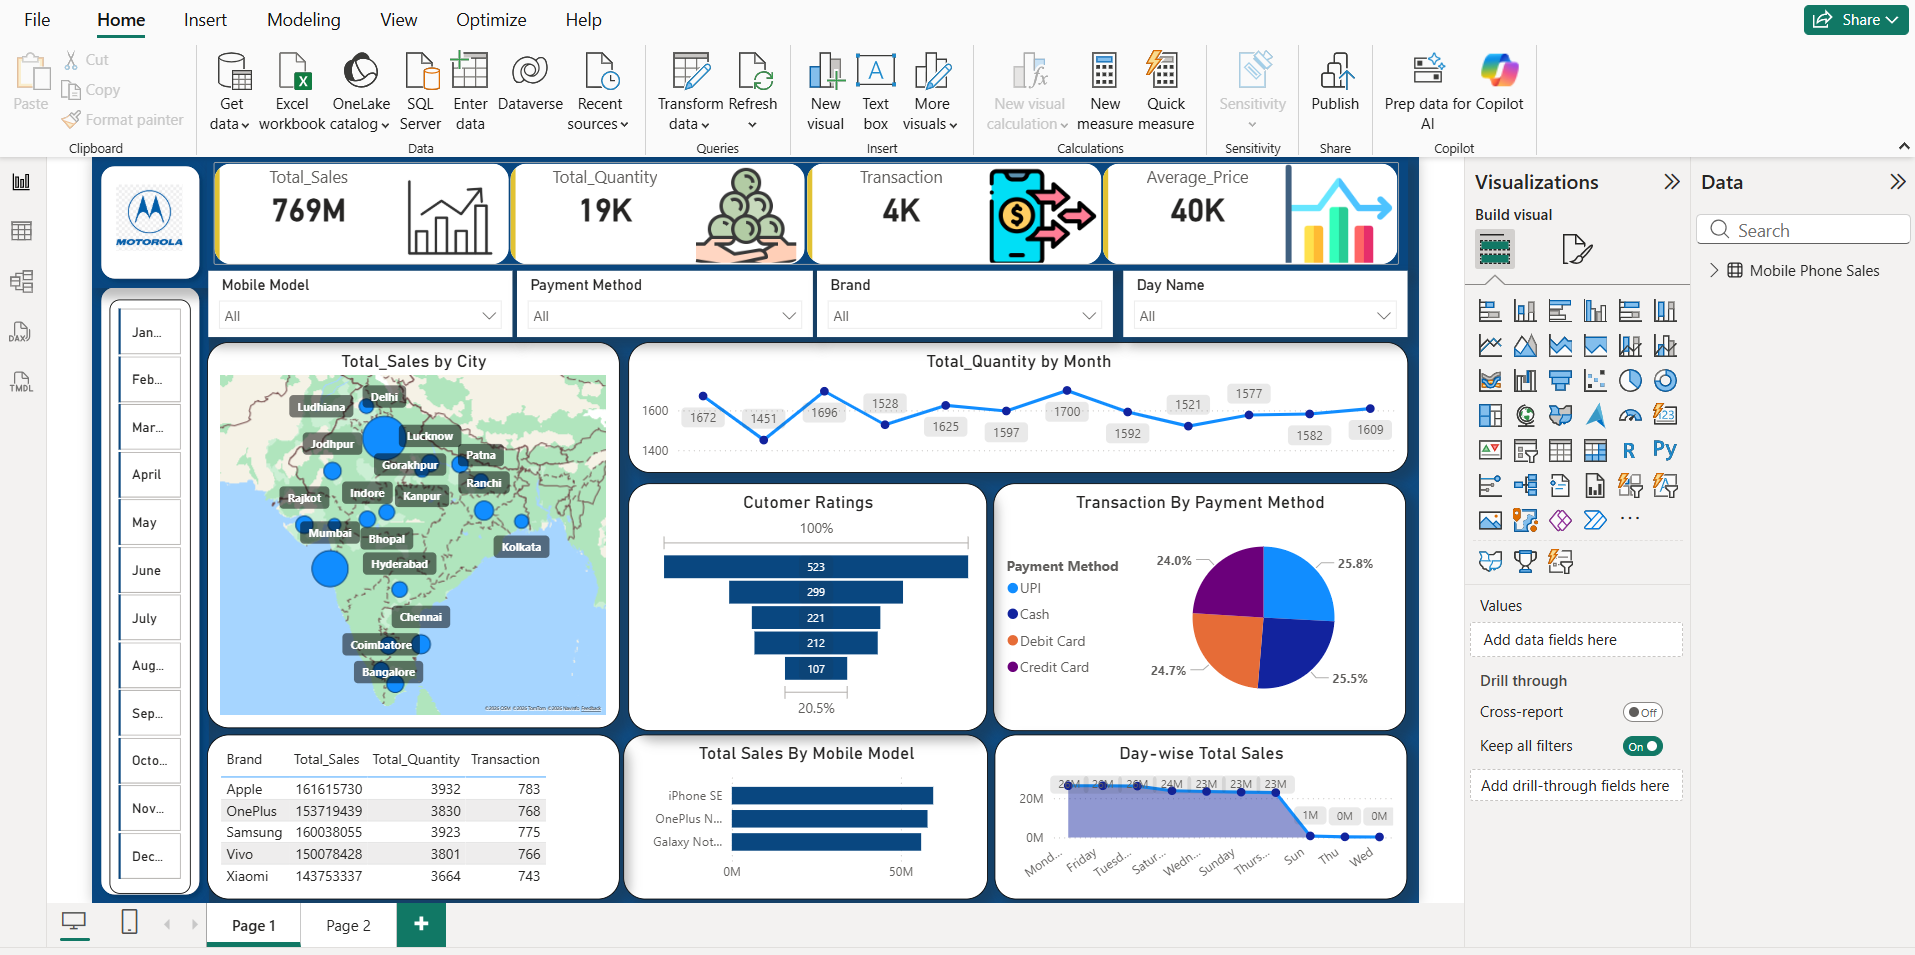

What the dashboard file says about the page in this screenshot:
{"tool":"powerbi","page":{"name":"Page 1","canvas":[1280,720],"ordinal":0},"visuals":[{"type":"shape","box":[0,116.6,112.5,603.8],"z":0},{"type":"shape","box":[0,0,112.5,126.2],"z":1000},{"type":"image","box":[16.5,22,76.8,74.1],"z":2000},{"type":"advancedSlicerVisual","fields":{"Values":["Sheet1.Date.Variation.Date Hierarchy.Month"]},"box":[16.5,137.2,78.2,573.6],"z":3000},{"type":"cardVisual","fields":{"Data":["Mobile Phone Sales.Total_Sales","Mobile Phone Sales.Total_Quantity","Mobile Phone Sales.ot_Transaction","Mobile Phone Sales.Avg_Price"]},"box":[111.3,0,1159,109.9],"z":4000},{"type":"azureMap","fields":{"Category":["Mobile Phone Sales.City"],"Size":["Mobile Phone Sales.Total_Sales"]},"box":[111,178.6,398.1,372.8],"z":5000},{"type":"lineChart","fields":{"Y":["Mobile Phone Sales.Total_Quantity"],"Category":["Mobile Phone Sales.Date.Variation.Date Hierarchy.Month","Mobile Phone Sales.Date.Variation.Date Hierarchy.Day"]},"box":[517.6,178.6,752.8,126.7],"z":6000},{"type":"barChart","title":"Total Sales By Mobile Model","fields":{"Category":["Mobile Phone Sales.Mobile Model"],"Y":["Mobile Phone Sales.Total_Sales"]},"box":[513,557.1,352.3,159.3],"z":7000},{"type":"pieChart","title":"Transaction By Payment Method","fields":{"Y":["Mobile Phone Sales.Transaction"],"Category":["Mobile Phone Sales.Payment Method"]},"box":[869.4,314.6,398.1,238.9],"z":8000},{"type":"funnel","title":"Cutomer Ratings","fields":{"Category":["Mobile Phone Sales.Customer Ratings"],"Y":["CountNonNull(Mobile Phone Sales.Customer Ratings)"]},"box":[517.1,314.6,346.2,238.9],"z":9000},{"type":"areaChart","title":"Total Sales By Mobile Model","fields":{"Y":["Mobile Phone Sales.Total_Sales"],"Category":["Mobile Phone Sales.Day Name"]},"box":[871.3,557.1,398.1,159.3],"z":10000},{"type":"tableEx","fields":{"Values":["Mobile Phone Sales.Brand","Mobile Phone Sales.Total_Sales","Mobile Phone Sales.Total_Quantity","Mobile Phone Sales.Transaction"]},"box":[111.2,557.1,398.1,159.3],"z":11000},{"type":"slicer","fields":{"Values":["Mobile Phone Sales.Mobile Model"]},"box":[112.7,109.9,293.6,64],"z":12000},{"type":"slicer","fields":{"Values":["Mobile Phone Sales.Payment Method"]},"box":[410.4,109.9,285.2,64],"z":13000},{"type":"slicer","fields":{"Values":["Mobile Phone Sales.Brand"]},"box":[699.8,109.9,285.2,64],"z":14000},{"type":"slicer","fields":{"Values":["Mobile Phone Sales.Day Name"]},"box":[994.8,109.9,274.1,64],"z":15000}]}

Visuals, with their boxes on the page's 1280x720 design canvas (x1, y1, x2, y2). These are canvas units, not pixel positions in the 1915x955 screenshot, which may show the page scaled, cropped or inside an application window:
shape: Rect(0, 117, 112, 720)
shape: Rect(0, 0, 112, 126)
image: Rect(16, 22, 93, 96)
advancedSlicerVisual - Sheet1.Date.Variation.Date Hierarchy.Month: Rect(16, 137, 95, 711)
cardVisual - Mobile Phone Sales.Total_Sales x Mobile Phone Sales.Total_Quantity: Rect(111, 0, 1270, 110)
azureMap - Mobile Phone Sales.City x Mobile Phone Sales.Total_Sales: Rect(111, 179, 509, 551)
lineChart - Mobile Phone Sales.Total_Quantity x Mobile Phone Sales.Date.Variation.Date Hierarchy.Month: Rect(518, 179, 1270, 305)
"Total Sales By Mobile Model" barChart: Rect(513, 557, 865, 716)
"Transaction By Payment Method" pieChart: Rect(869, 315, 1268, 554)
"Cutomer Ratings" funnel: Rect(517, 315, 863, 554)
"Total Sales By Mobile Model" areaChart: Rect(871, 557, 1269, 716)
tableEx - Mobile Phone Sales.Brand x Mobile Phone Sales.Total_Sales: Rect(111, 557, 509, 716)
slicer - Mobile Phone Sales.Mobile Model: Rect(113, 110, 406, 174)
slicer - Mobile Phone Sales.Payment Method: Rect(410, 110, 696, 174)
slicer - Mobile Phone Sales.Brand: Rect(700, 110, 985, 174)
slicer - Mobile Phone Sales.Day Name: Rect(995, 110, 1269, 174)
